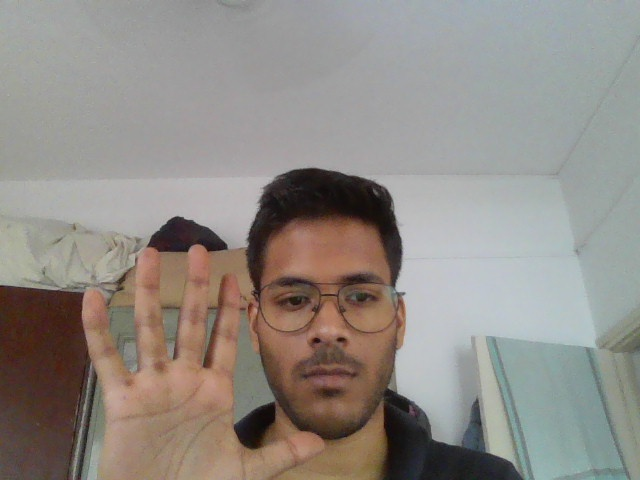hello: (65, 236, 350, 480)
